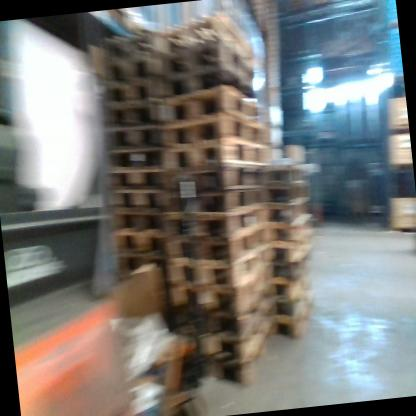forklift: (0, 16, 158, 416)
pallet: (148, 0, 253, 77), (153, 58, 260, 117), (154, 103, 267, 156), (173, 285, 278, 342), (172, 266, 281, 320), (154, 35, 256, 92), (160, 80, 260, 134), (167, 242, 273, 291), (156, 131, 261, 174), (181, 319, 275, 366), (157, 153, 261, 195), (160, 178, 269, 217), (167, 231, 275, 270), (164, 208, 270, 242), (201, 351, 275, 390), (112, 246, 170, 284), (267, 304, 320, 344), (107, 225, 169, 259), (102, 121, 160, 155), (109, 206, 166, 240), (97, 52, 161, 82), (99, 97, 159, 127), (102, 169, 165, 197), (97, 30, 159, 58), (111, 187, 164, 219), (100, 149, 162, 176), (262, 237, 315, 268), (256, 199, 311, 228), (251, 157, 310, 184), (254, 178, 312, 204), (100, 77, 157, 102), (261, 223, 312, 242), (267, 277, 314, 296), (269, 293, 317, 310), (272, 264, 313, 281)
pallet_truck: (100, 147, 219, 416)
